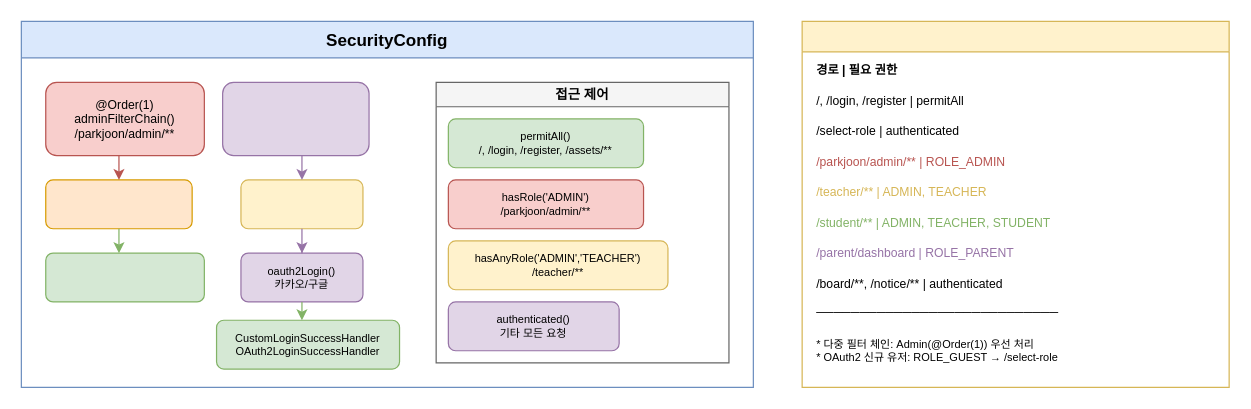
This 1251x409 diagram has some shape labels left out. Here are the shapes that lost their labels. From the top down, the box of each, then its label:
(221, 81, 369, 156): @Order(2) filterChain() 기본 요청
(45, 179, 192, 229): loginPage: /parkjoon/admin/login
(240, 179, 363, 229): formLogin() loginPage: /login
(801, 20, 1229, 387): 권한 체계
(45, 252, 204, 302): successUrl: /parkjoon/admin/dashboard
